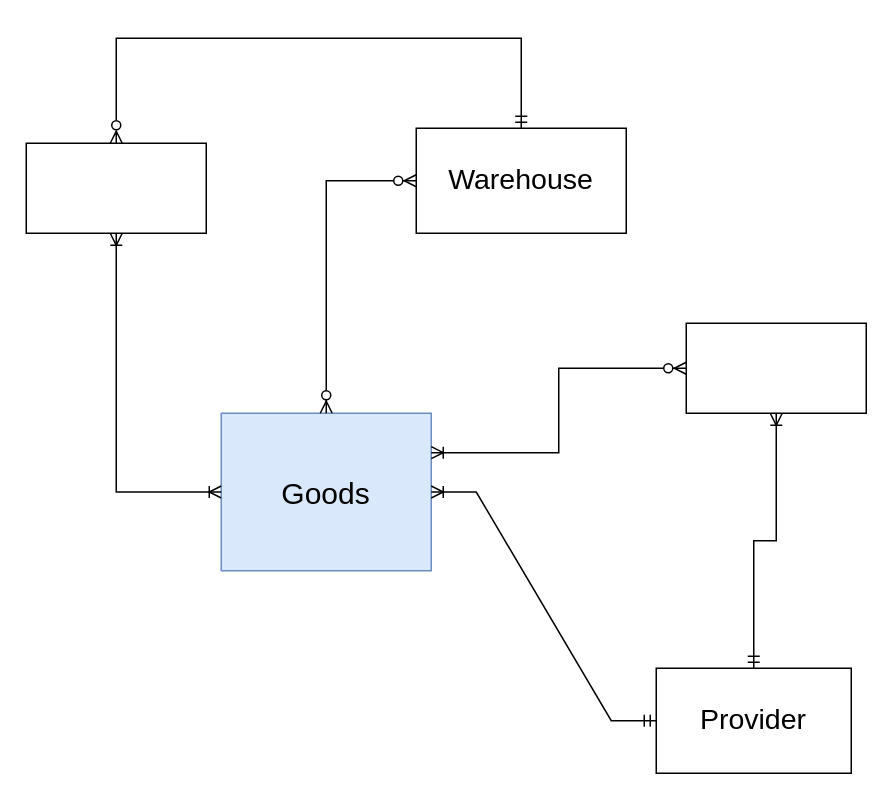
The diagram is 893 pixels wide and 800 high, and some of its shapes have lost their labels. The centre of each missing label's shape, as x and y in pixels:
"Order" goes at [775,367].
"Shipment" goes at [115,187].
